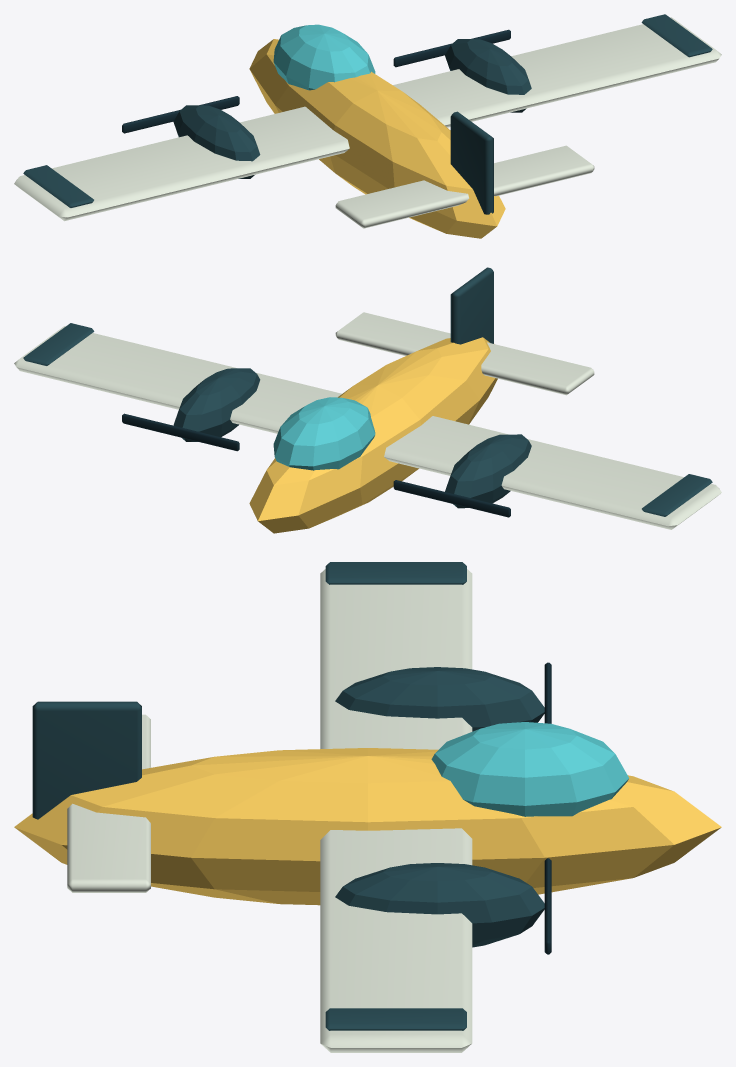
The picture shows the model from 3 angles, top to bottom: view 1: azimuth 30°, elevation 25°; view 2: azimuth 150°, elevation 25°; view 3: azimuth 270°, elevation 25°; orthographic projection. The views are drawn at different scales.
Parts seen in each view (by area): view 1: Wing, Fuselage, Tail wing.001, Cockpit, Engine.001, Engine, Tail fin.001, Wing tip, Wing tip.001, Propeller blade, Propeller blade.001; view 2: Wing, Fuselage, Tail wing.001, Cockpit, Engine, Engine.001, Tail fin.001, Wing tip.001, Wing tip, Propeller blade, Propeller blade.001; view 3: Fuselage, Wing, Cockpit, Tail fin.001, Engine.001, Engine, Tail wing.001, Wing tip, Wing tip.001.
Part boxes in pixels (x1,y1,x2,y2): Wing: (14,17,721,221); Fuselage: (249,39,505,238); Tail wing.001: (335,145,594,228); Cockpit: (273,24,375,90); Engine.001: (445,39,531,112); Engine: (173,105,260,178); Tail fin.001: (450,111,493,214); Wing tip: (23,165,93,207); Wing tip.001: (641,14,712,57); Propeller blade: (122,96,239,133); Propeller blade.001: (393,29,510,67); Wing: (14,326,721,529); Fuselage: (249,337,497,533); Tail wing.001: (335,312,594,395); Cockpit: (273,397,375,470); Engine: (445,434,531,508); Engine.001: (173,368,260,441); Tail fin.001: (450,267,493,344); Wing tip.001: (23,323,94,365); Wing tip: (642,474,712,516); Propeller blade: (393,480,510,517); Propeller blade.001: (122,413,239,451); Fuselage: (14,748,721,905); Wing: (320,569,472,1052); Cockpit: (431,722,628,816); Tail fin.001: (32,701,141,819); Engine.001: (335,863,544,947); Engine: (335,667,544,731); Tail wing.001: (67,714,150,892); Wing tip: (325,562,466,584); Wing tip.001: (325,1008,466,1030).
Bounding box in the file's own units: 8.8 × 1.68 × 5.5.
